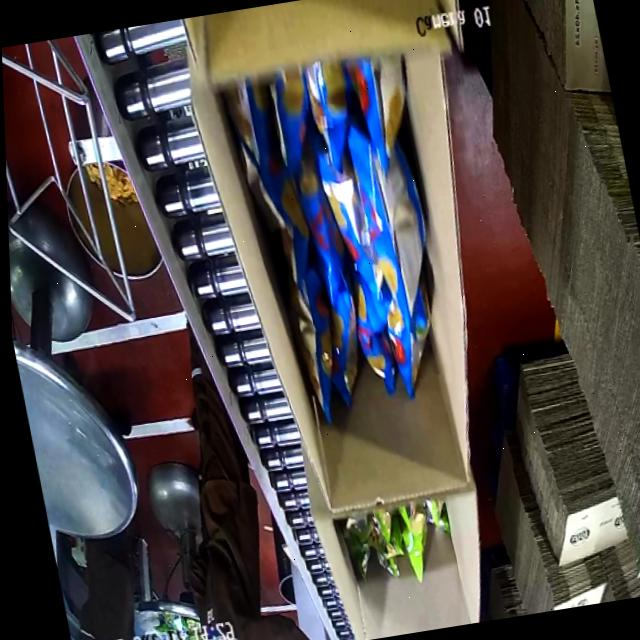PAPRIKA: (236, 60, 464, 418)
